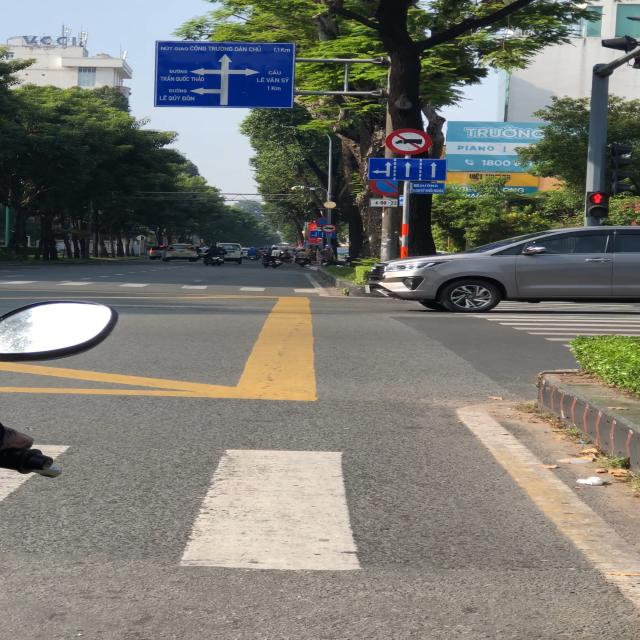Bien bao cam xe so-mi ro-mooc: (382, 128, 436, 158), (320, 223, 339, 234)
